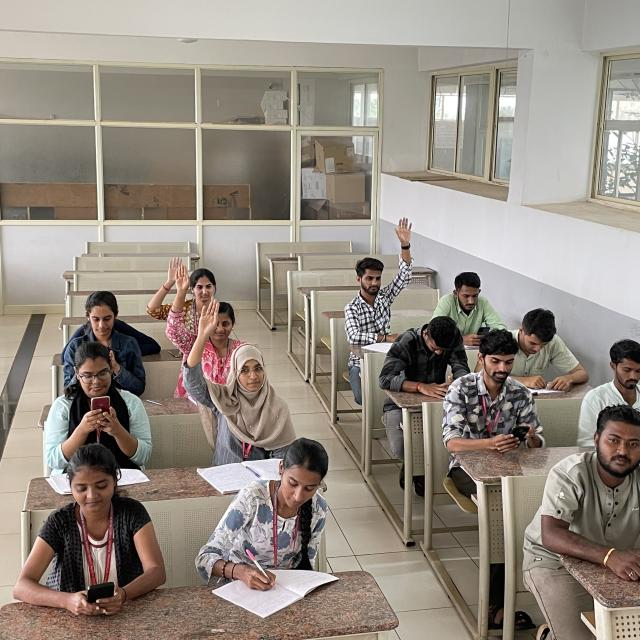Hand Rising: (182, 301, 292, 438), (337, 191, 421, 341), (160, 275, 239, 360), (130, 246, 218, 320)
Reading: (505, 292, 603, 403)
Using Phone: (18, 443, 178, 631), (348, 300, 480, 402), (448, 330, 546, 466), (54, 337, 150, 453), (435, 243, 531, 358), (64, 280, 150, 382)
Writing: (191, 429, 350, 622)
